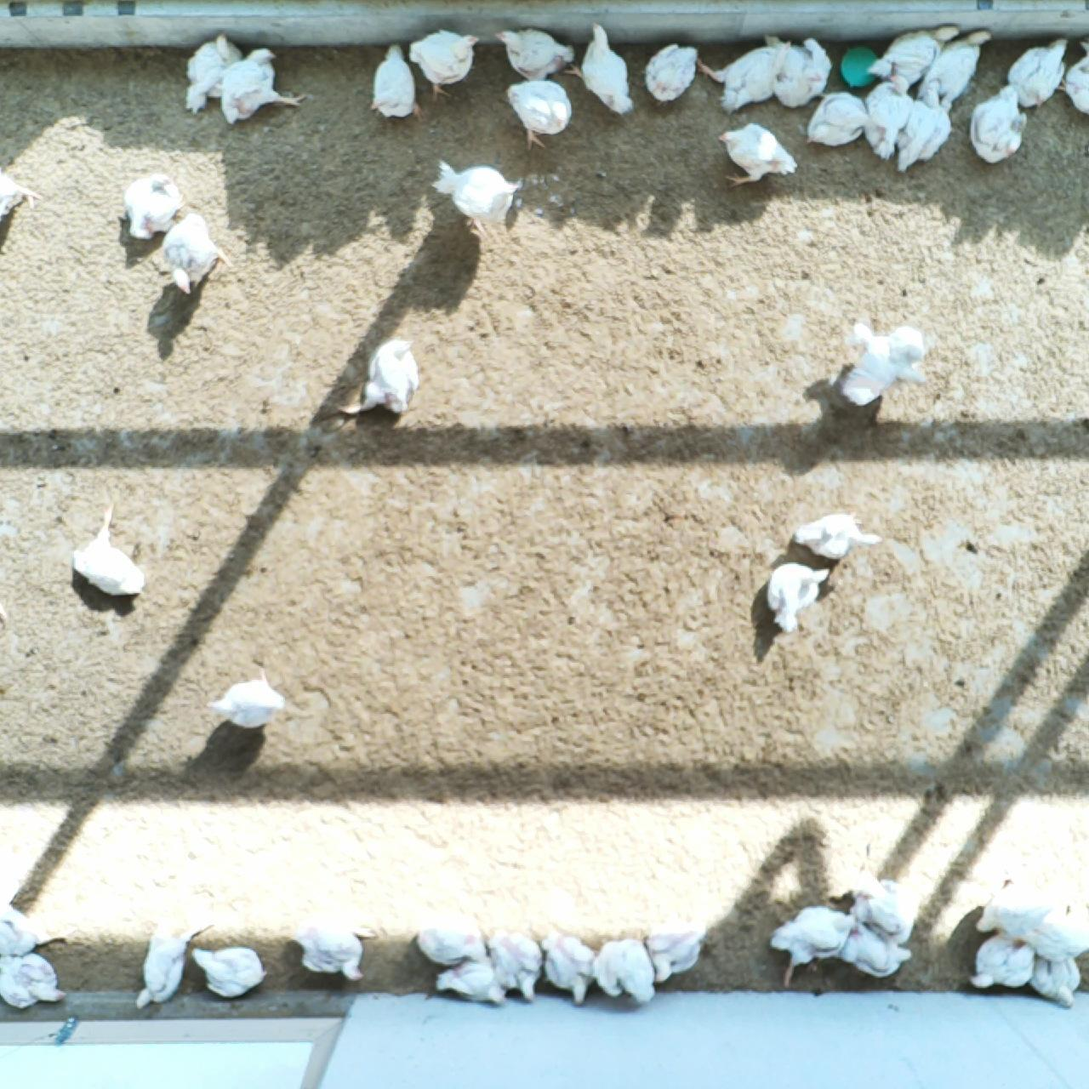chicken: (844, 322, 928, 406), (773, 906, 864, 983), (71, 507, 148, 597), (133, 918, 208, 1010), (700, 31, 778, 113), (338, 339, 420, 414), (225, 43, 303, 121), (869, 22, 961, 84), (165, 212, 231, 297), (920, 29, 994, 102), (849, 869, 920, 944), (296, 925, 379, 984), (895, 79, 951, 166), (437, 163, 519, 221), (576, 21, 630, 109), (719, 122, 795, 183), (188, 31, 242, 116), (503, 78, 570, 145), (847, 912, 915, 978), (493, 26, 573, 82), (868, 72, 921, 156), (410, 29, 477, 94), (767, 562, 828, 632), (214, 669, 285, 729), (596, 938, 660, 1003), (1010, 37, 1071, 105), (968, 933, 1043, 988), (771, 32, 826, 106), (124, 174, 182, 242), (191, 946, 265, 999), (973, 89, 1026, 162), (1, 903, 74, 955), (542, 932, 599, 998), (795, 514, 880, 558), (983, 881, 1047, 939), (1031, 941, 1083, 1010), (1025, 902, 1086, 960), (1, 956, 66, 1010), (805, 94, 875, 144), (373, 42, 418, 119), (653, 922, 713, 978), (435, 960, 511, 1003), (492, 932, 540, 1000), (414, 927, 487, 965), (648, 40, 695, 97), (1, 173, 44, 214), (1067, 40, 1089, 110)
